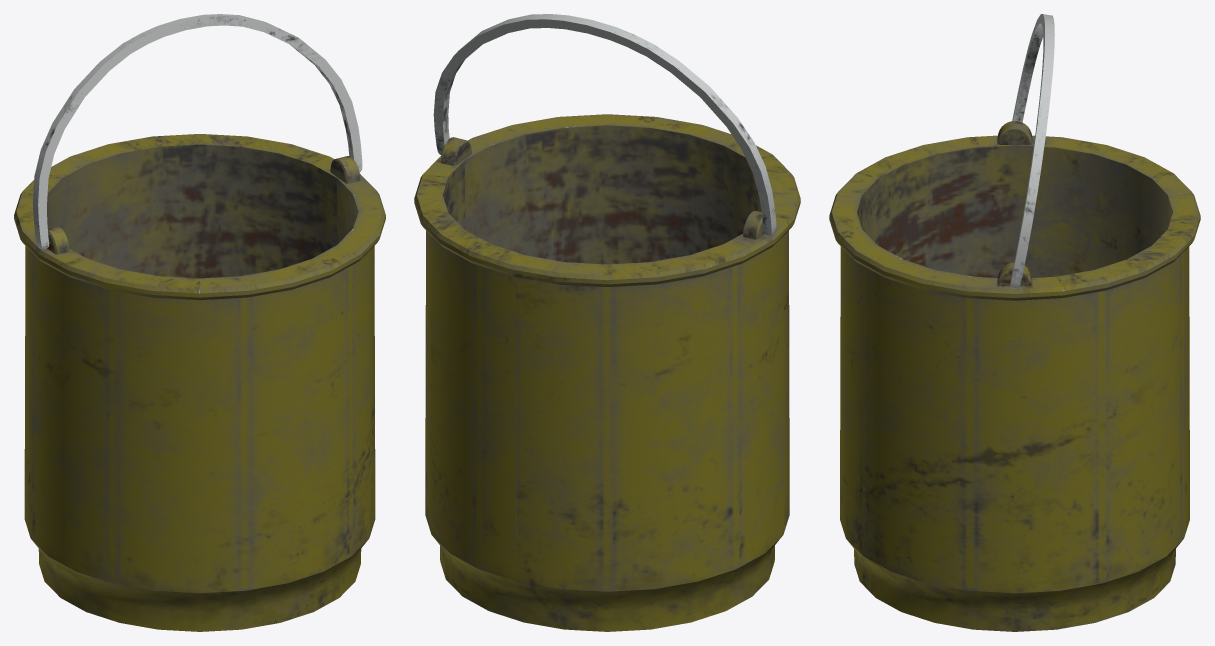
File: Plastic bucket.fbx
3 renders of one model, left to right at view 1: azimuth 30°, elevation 25°; view 2: azimuth 150°, elevation 25°; view 3: azimuth 270°, elevation 25°, orthographic. The views are drawn at different scales.
Parts seen in each view (by area): view 1: Cylinder; view 2: Cylinder; view 3: Cylinder.
Part boxes in pixels (x1,y1,x2,y2): Cylinder: (14,14,385,631); Cylinder: (414,14,800,631); Cylinder: (829,14,1200,631).
Bounding box in the file's own units: 32 × 50.44 × 31.95.
